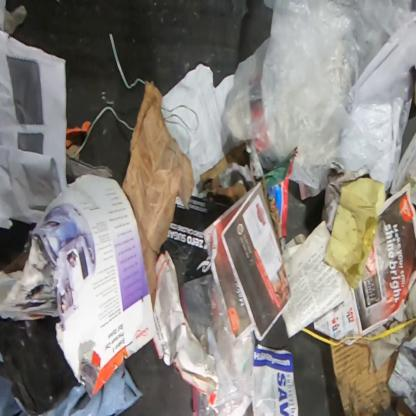cardboard: (121, 79, 196, 315), (330, 336, 400, 416)
soft_plastic: (225, 0, 415, 193), (0, 319, 145, 415), (180, 274, 256, 416)
